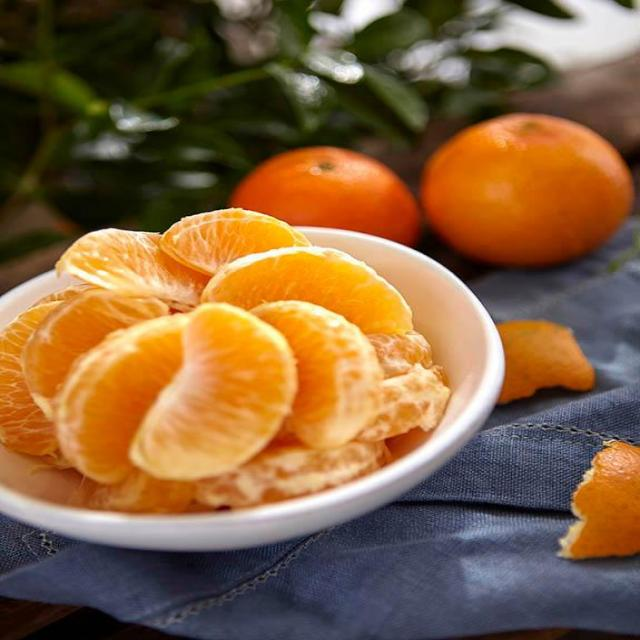10_tangerine: (428, 107, 634, 265), (125, 301, 298, 486), (51, 312, 201, 488), (24, 284, 179, 424), (242, 300, 387, 448), (219, 138, 420, 244), (189, 247, 414, 337), (45, 226, 248, 307), (155, 208, 319, 272)
